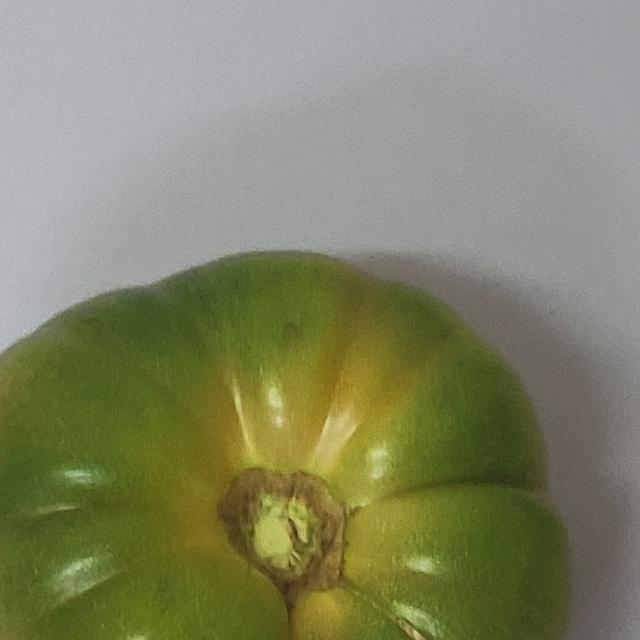tomato: (0, 164, 640, 640)
